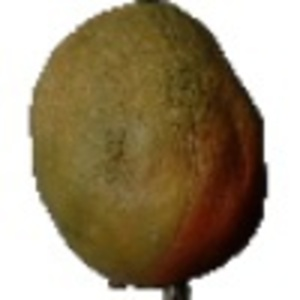mamão: (26, 2, 275, 289)
